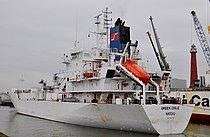Ship: (6, 30, 197, 137)
